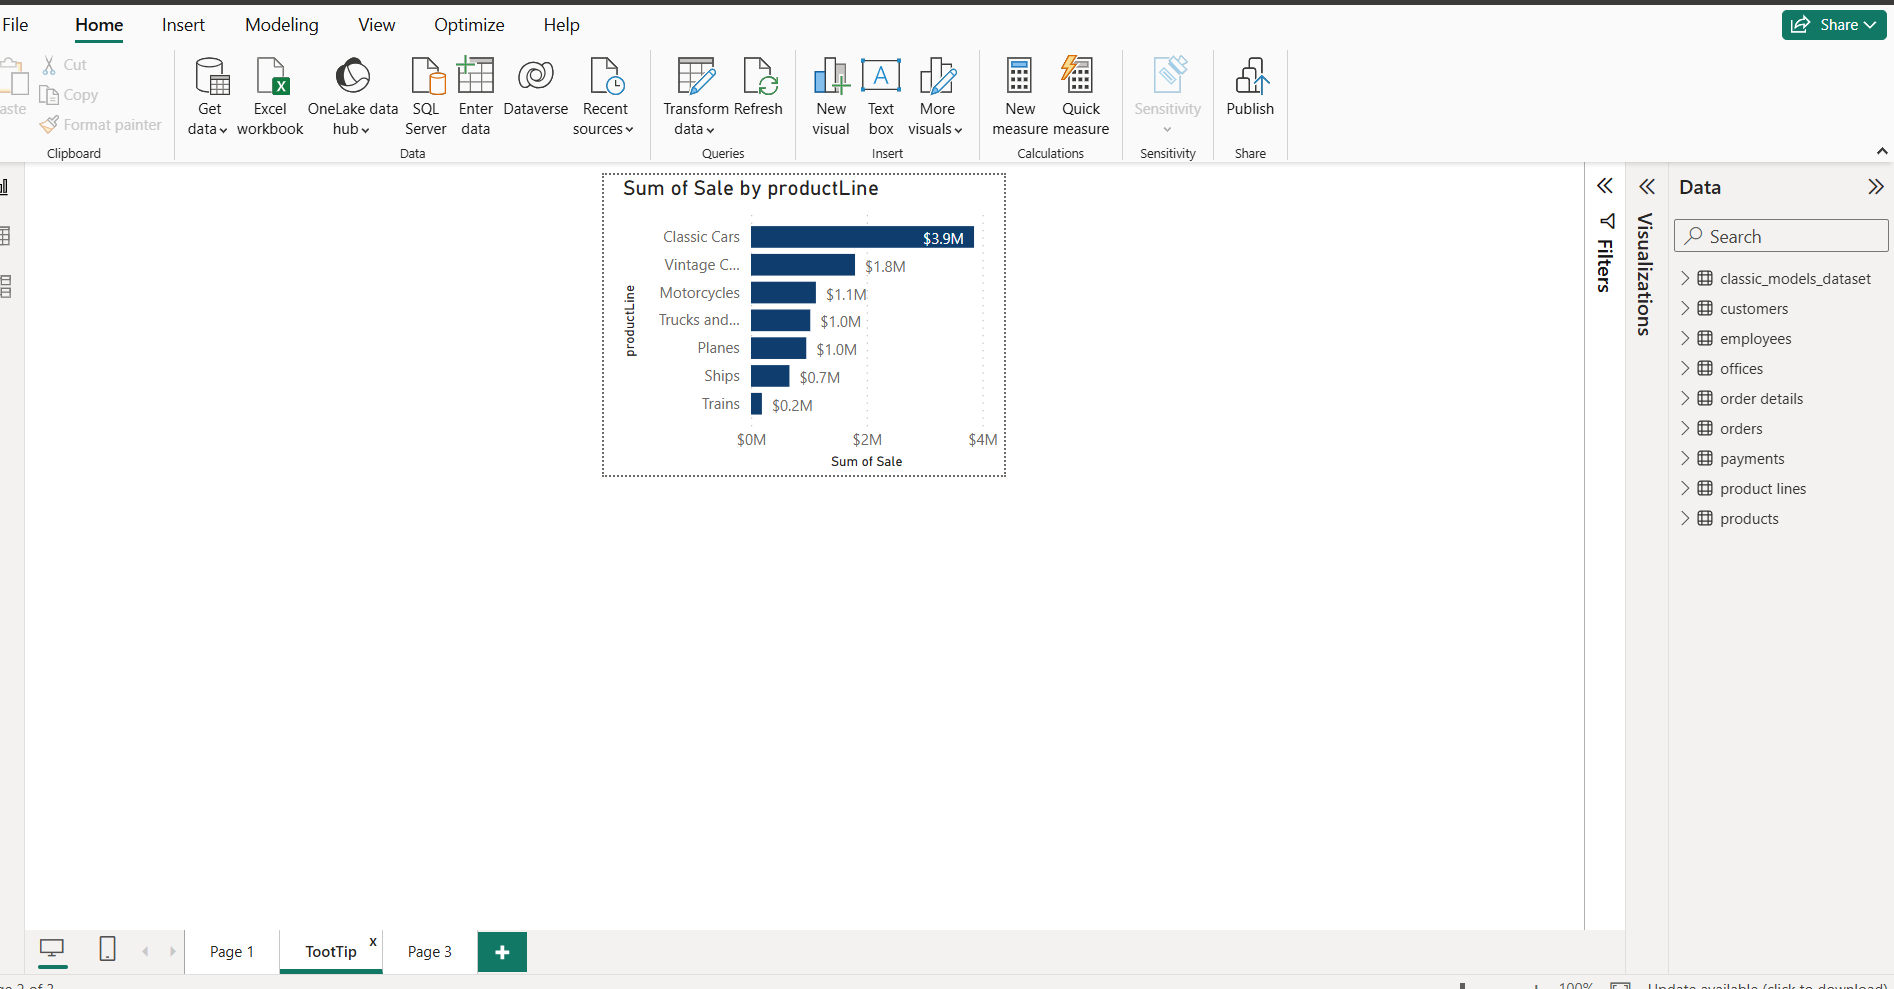

The page's visual inventory and layout, read from the dashboard file:
{"tool":"powerbi","page":{"name":"TootTip","canvas":[320,240],"ordinal":1},"visuals":[{"type":"barChart","fields":{"Category":["product lines.productLine"],"Y":["Sum(order details.Sale)"]},"box":[10,0,310,240],"z":0}]}

Visuals, with their boxes on the page's 320x240 design canvas (x1, y1, x2, y2). These are canvas units, not pixel positions in the 1894x989 screenshot, which may show the page scaled, cropped or inside an application window:
barChart - product lines.productLine x Sum(order details.Sale): bbox(10, 0, 320, 240)
